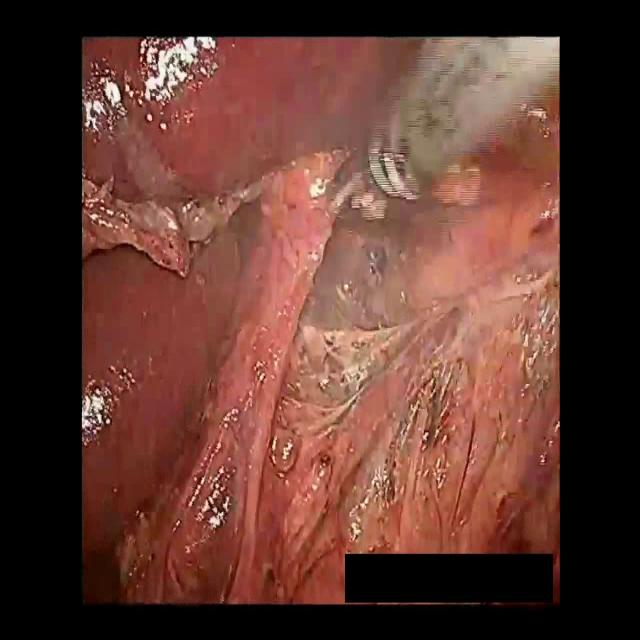surgical-area: (84, 38, 560, 612)
